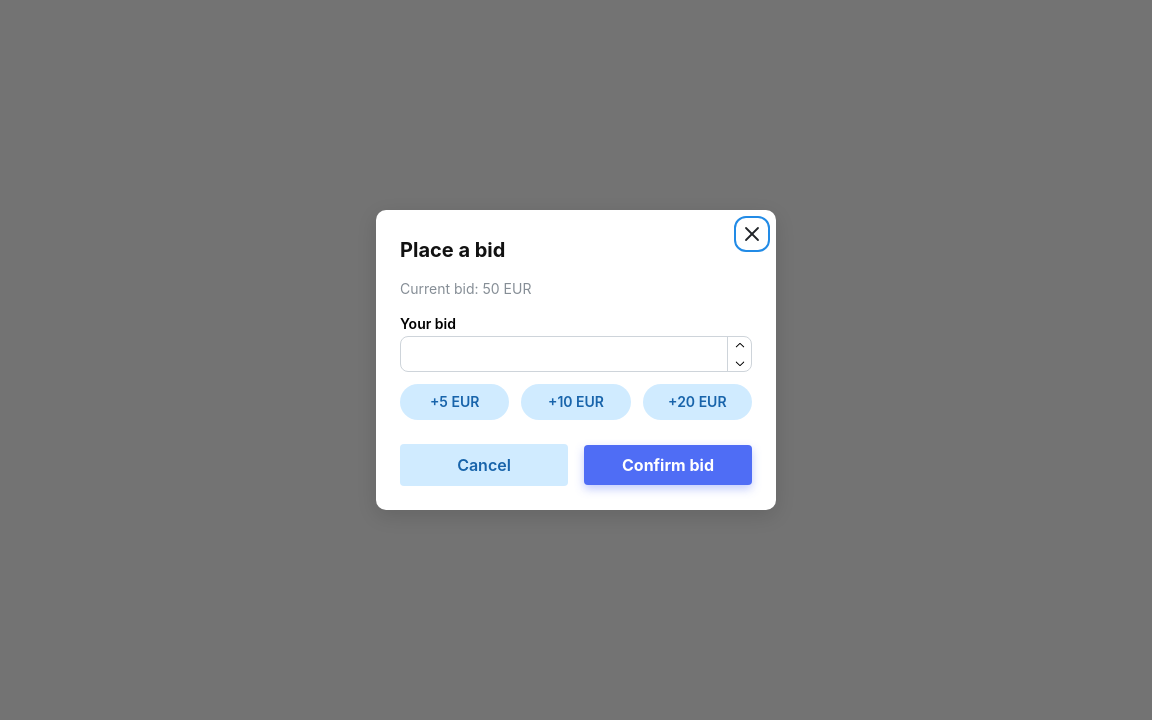
Test: PlaceBidModal › shows error if bid is not greater than current price
Step 1. Type "50" into the field labelled "Your bid" → (576, 354), box [400,336,752,372]
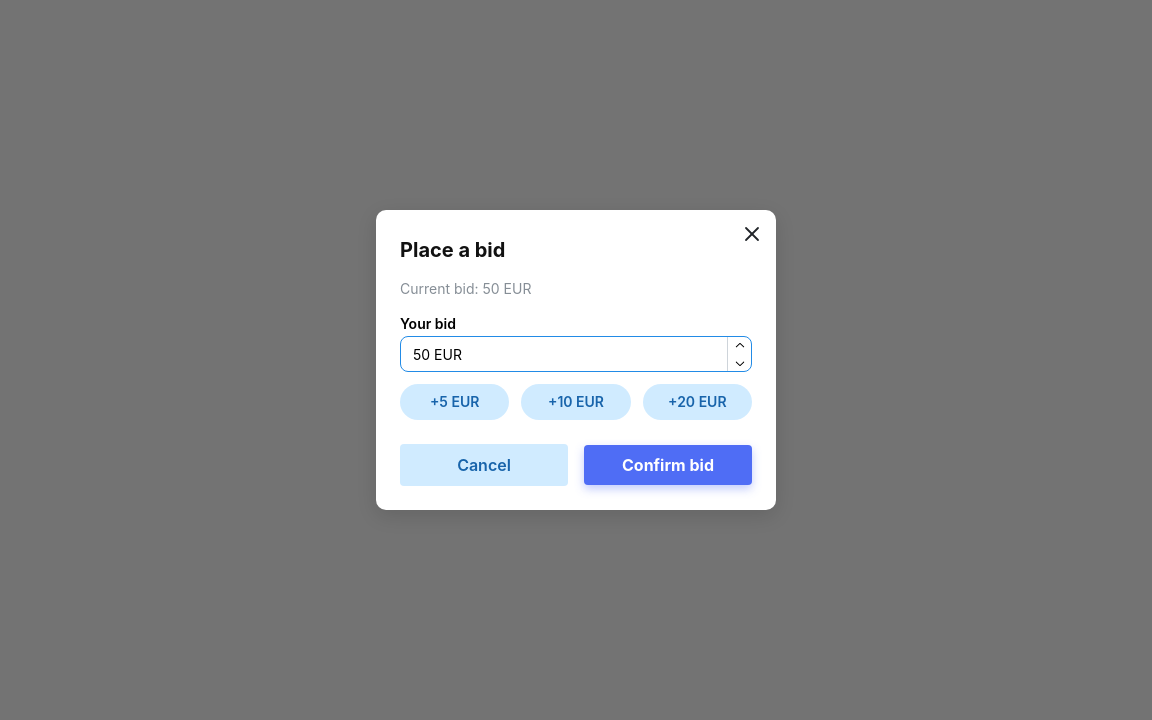
Step 2. Click the button "Confirm bid" → (668, 465), box [584,445,752,485]
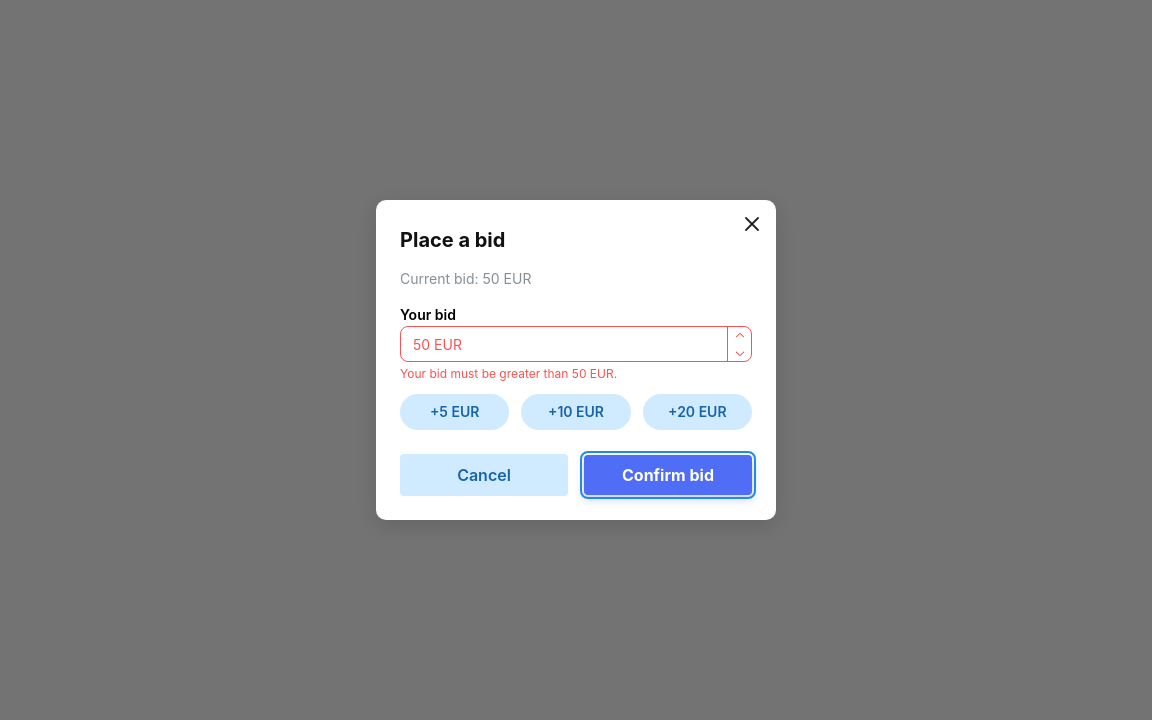
Result: the text "Your bid must be greater than 50 EUR." is shown at [400,366,617,381]
